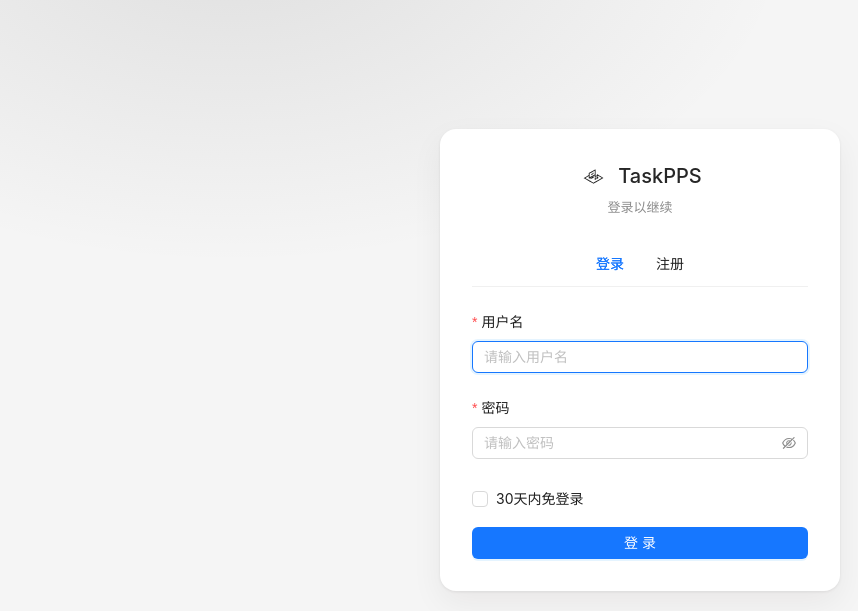
LoginPage (issue #204) › TC-W174: 表单空字段验证错误
The image size is (858, 611).
直接点登录（不填字段）
Click the submit button at (640,543), box [472, 527, 808, 559]
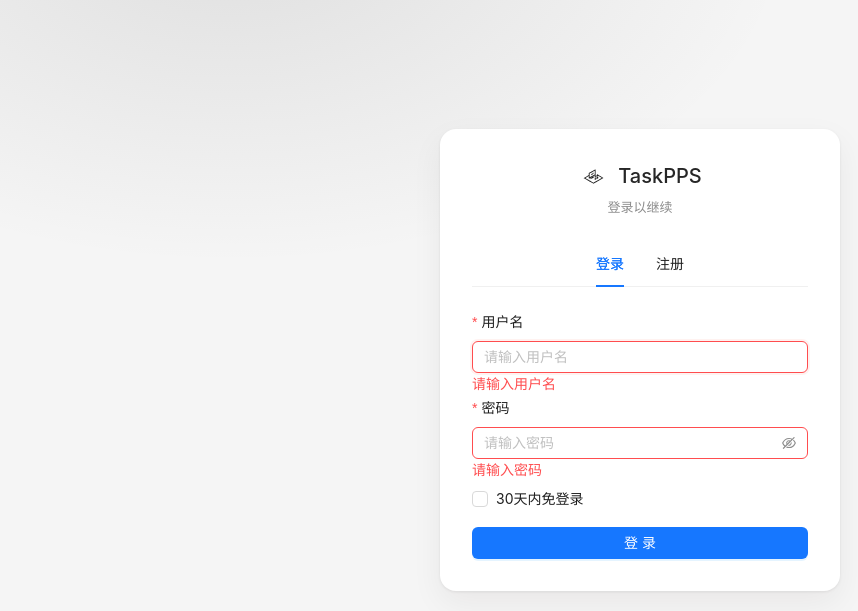
Check: the text "请输入用户名" is shown, box [472, 375, 556, 392]
Check: the text "请输入密码" is shown, box [472, 461, 542, 478]
